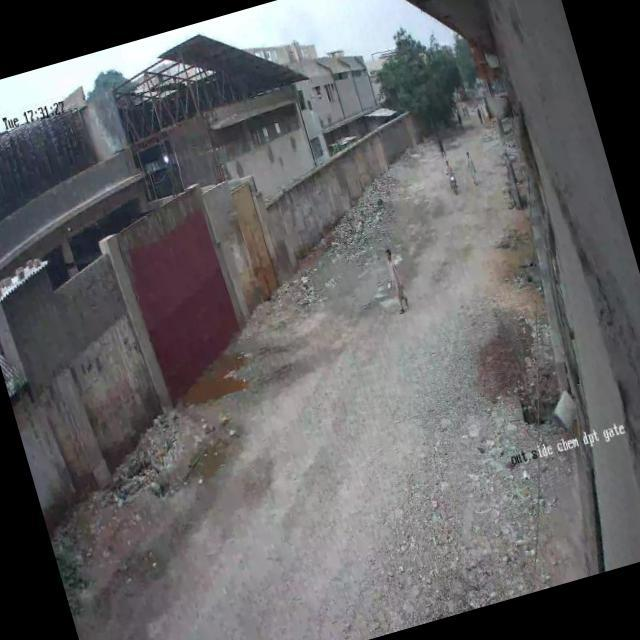person: (378, 245, 414, 320), (462, 148, 483, 192), (433, 132, 450, 160), (472, 102, 486, 127), (442, 158, 456, 180)
